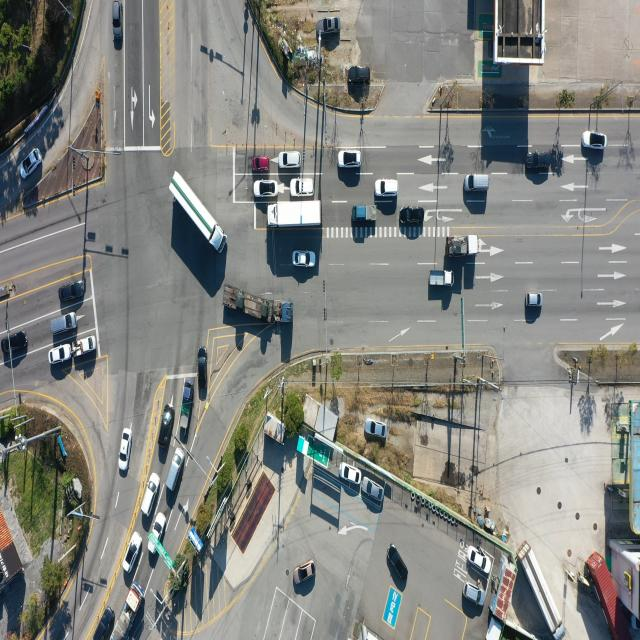car: (140, 472, 160, 518), (147, 513, 167, 557), (125, 531, 144, 572), (48, 312, 77, 338), (167, 448, 184, 492), (388, 547, 409, 581), (21, 149, 44, 180), (470, 547, 493, 575), (198, 347, 210, 400), (97, 605, 114, 640), (291, 176, 315, 200), (1, 334, 27, 356), (118, 428, 131, 471), (294, 560, 315, 586), (462, 583, 484, 607), (60, 281, 85, 302), (526, 153, 552, 173), (362, 480, 384, 503), (402, 206, 427, 226), (161, 408, 174, 446), (340, 462, 362, 484), (49, 344, 72, 365), (583, 131, 607, 151), (339, 150, 363, 170), (464, 173, 488, 193), (253, 179, 276, 198), (364, 419, 386, 438), (376, 179, 399, 197), (112, 1, 121, 46), (292, 250, 315, 267), (350, 66, 370, 84), (280, 151, 301, 168), (251, 158, 270, 173), (323, 18, 340, 34), (526, 292, 543, 306)
large_truck: (221, 282, 292, 330)
medium_truck: (173, 170, 227, 255), (521, 542, 566, 638), (114, 584, 144, 640), (267, 200, 321, 229), (449, 233, 482, 256)
small_truck: (180, 379, 194, 433), (428, 271, 453, 289), (75, 336, 96, 357), (352, 205, 376, 223)
